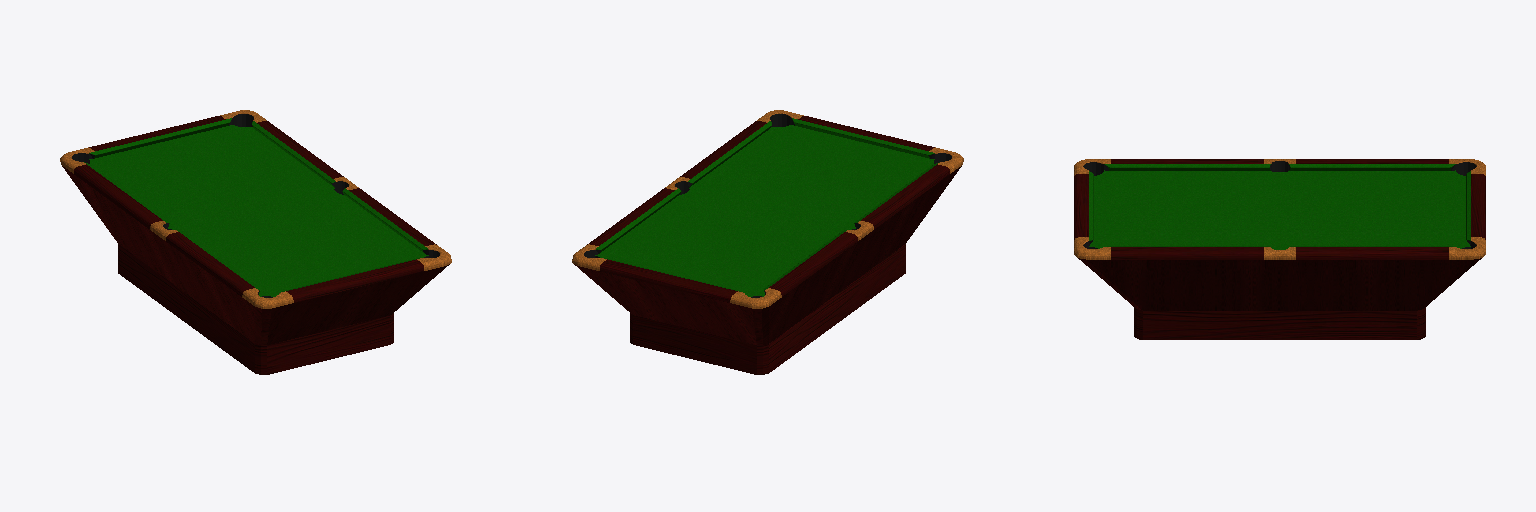
3 views of the same model, side by side, from view 1: azimuth 30°, elevation 25°; view 2: azimuth 150°, elevation 25°; view 3: azimuth 270°, elevation 25° (orthographic).
Bounding box in the file's own units: 1.73 × 0.8538 × 3.15.
Materials: 5 (1 with a texture image).